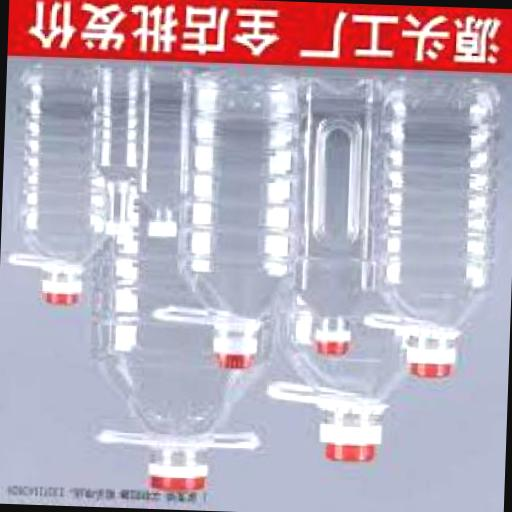plastic: (87, 99, 280, 497), (151, 74, 306, 372), (364, 74, 502, 380), (270, 274, 416, 461), (292, 78, 384, 360), (12, 63, 116, 307), (140, 70, 197, 244), (96, 70, 147, 236), (320, 425, 386, 464), (151, 463, 206, 497), (408, 345, 458, 381), (212, 340, 261, 369), (41, 282, 85, 306), (318, 333, 352, 359), (148, 222, 181, 242), (110, 222, 133, 240)
